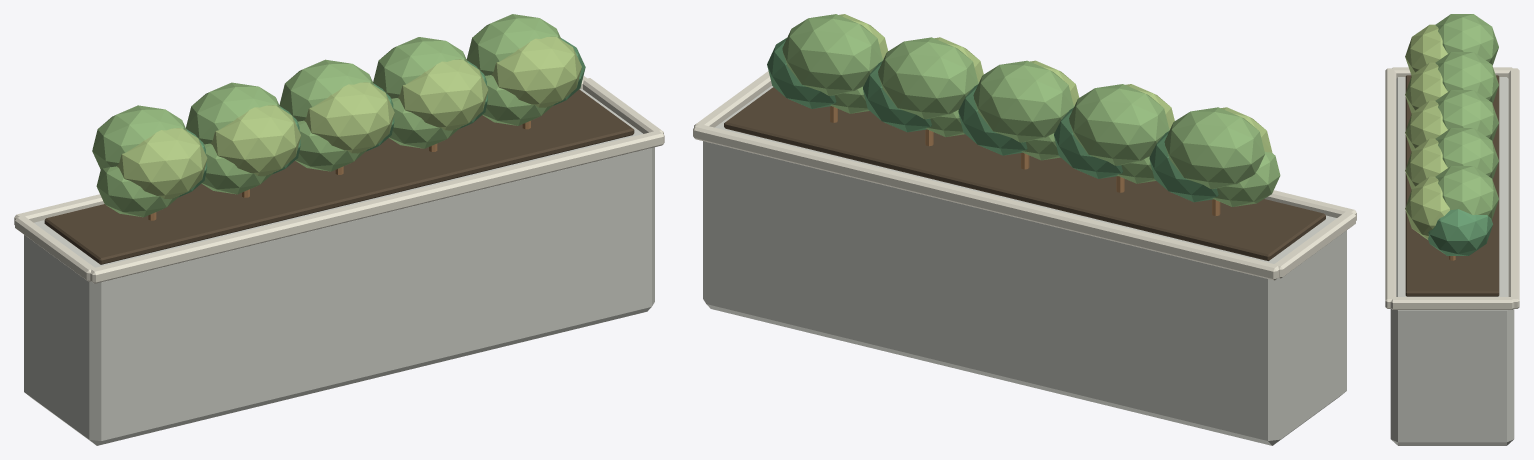
The model's file is Planter_Wall.glb.
3 views of the same model, side by side, from view 1: azimuth 30°, elevation 25°; view 2: azimuth 150°, elevation 25°; view 3: azimuth 270°, elevation 25° (orthographic). The views are drawn at different scales.
Visible parts, largest first — view 1: Planter_Wall; view 2: Planter_Wall; view 3: Planter_Wall.
Boxes of the visible parts, <box> form: Planter_Wall: <box>14,14,664,445</box>; Planter_Wall: <box>693,14,1356,445</box>; Planter_Wall: <box>1385,14,1519,445</box>.
Bounding box in the file's own units: 2.25 × 1.07 × 0.545.
